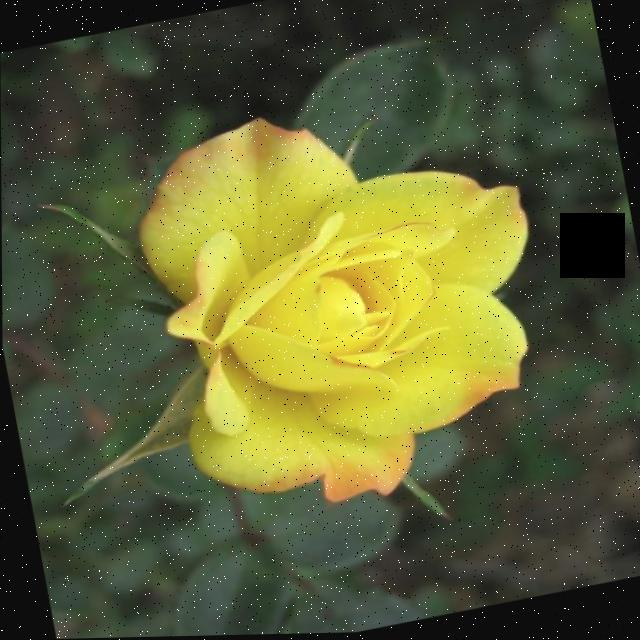rose: (43, 49, 635, 564)
